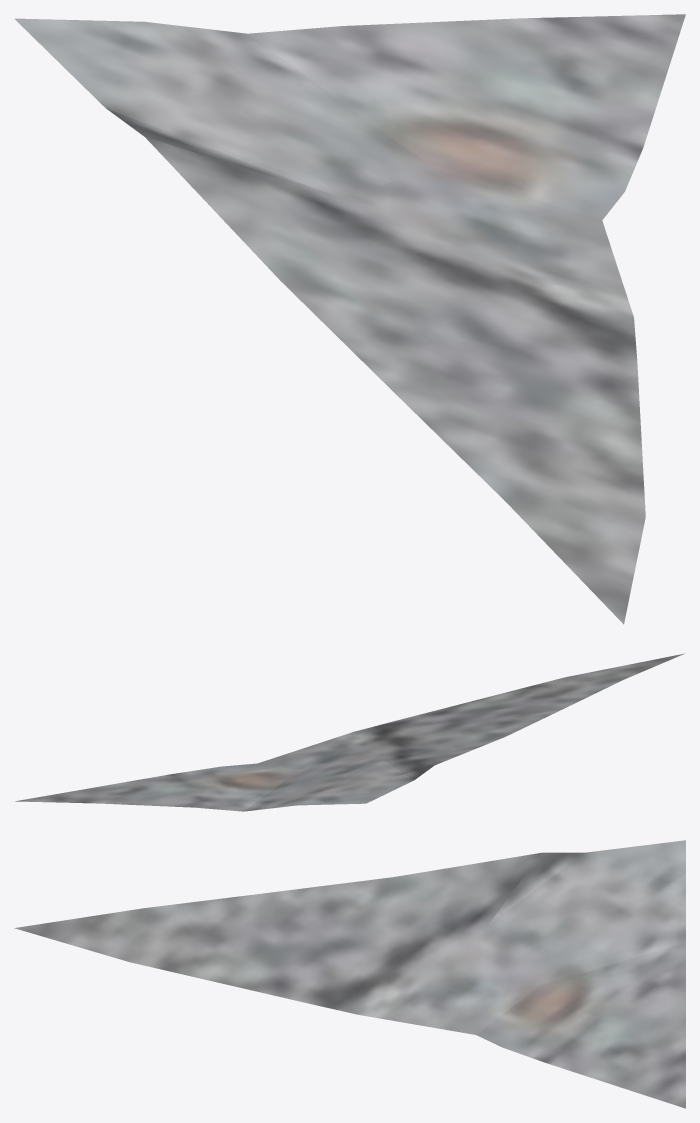
The picture shows the model from 3 angles, top to bottom: view 1: azimuth 30°, elevation 25°; view 2: azimuth 150°, elevation 25°; view 3: azimuth 270°, elevation 25°; orthographic projection. The views are drawn at different scales.
Bounding box in the file's own units: 0.4901 × 0.1113 × 0.7706.
1 material, 1 textured.
